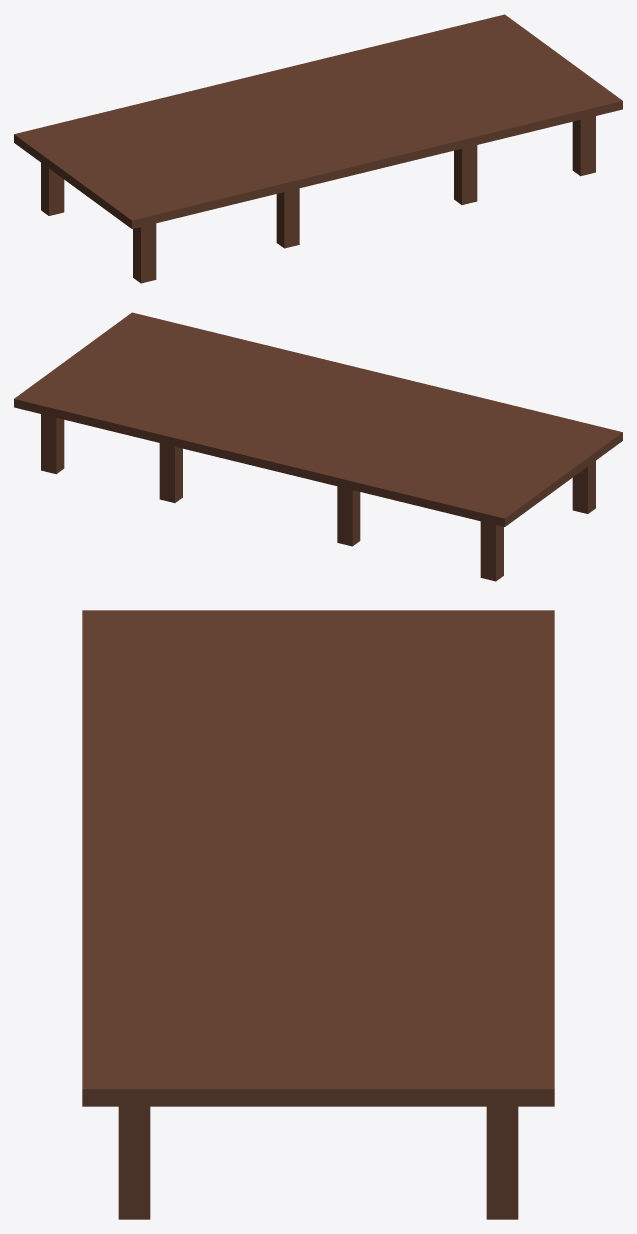
File: Table_Long.fbx
3 renders of one model, top to bottom at view 1: azimuth 30°, elevation 25°; view 2: azimuth 150°, elevation 25°; view 3: azimuth 270°, elevation 25°, orthographic. The views are drawn at different scales.
Visible parts, largest first — view 1: Table LONG BOI, Cube.001; view 2: Table LONG BOI, Cube.001; view 3: Table LONG BOI, Cube.001.
Boxes of the visible parts, box(x1,y1,x2,y2) form: Table LONG BOI: box(14, 14, 622, 228); Cube.001: box(41, 116, 595, 283); Table LONG BOI: box(14, 312, 622, 526); Cube.001: box(41, 414, 595, 581); Table LONG BOI: box(82, 610, 554, 1106); Cube.001: box(118, 1106, 518, 1219).
Bounding box in the file's own units: 300 × 43.16 × 125.
